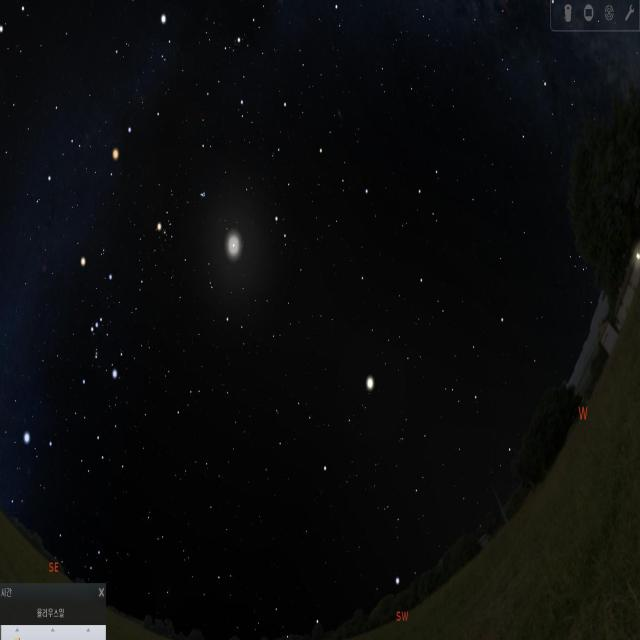canis_major: (0, 417, 58, 513)
gemini: (0, 0, 95, 166)
moon: (218, 219, 250, 267)
orion: (71, 247, 123, 392)
pleiades: (193, 184, 210, 210)
taurus: (160, 172, 210, 262)
